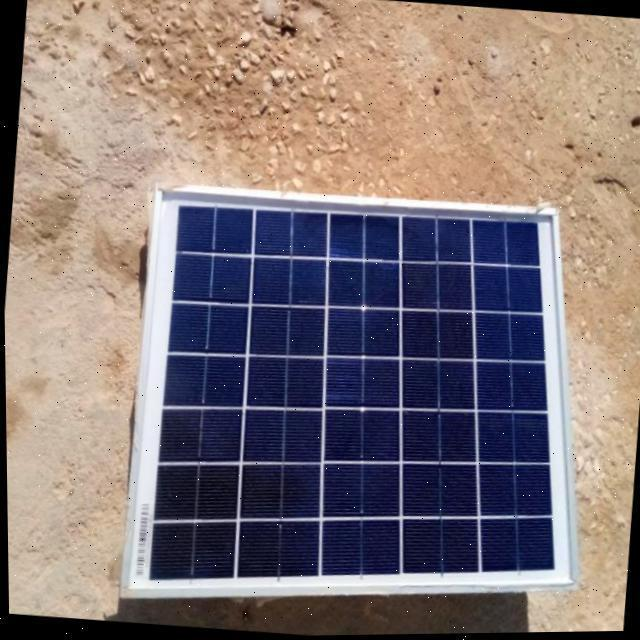Normal Solar Panel: (113, 175, 604, 633)
